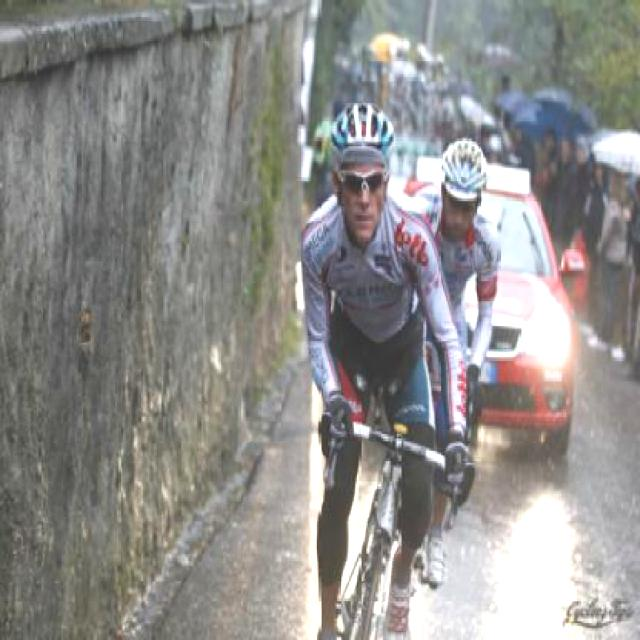With Helmet: (329, 93, 397, 244), (434, 129, 492, 237)
